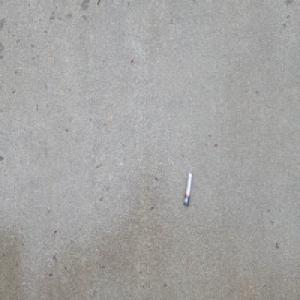Battery: (183, 172, 192, 207)
